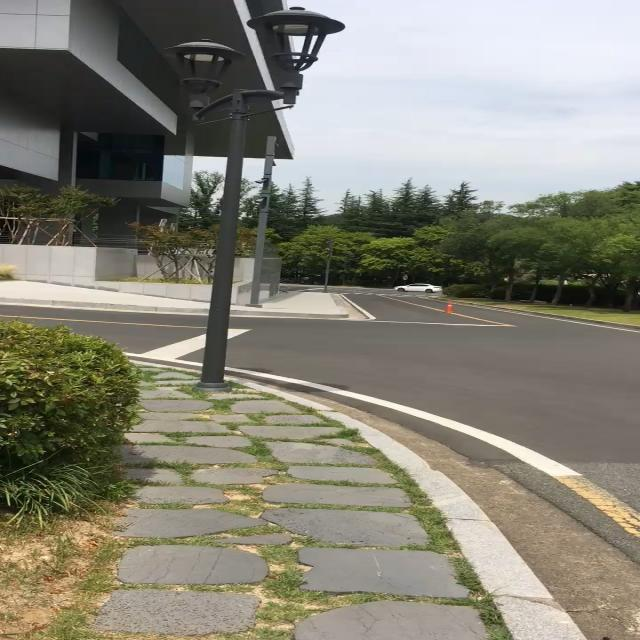obstacle: (0, 319, 140, 522), (199, 94, 248, 388)
road: (226, 289, 640, 640), (0, 305, 208, 366)
sidewalk: (83, 375, 590, 640)
